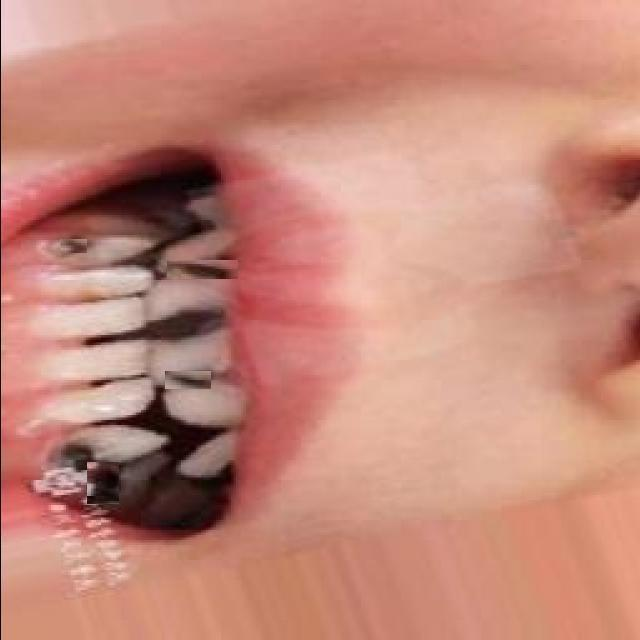decay: (146, 306, 224, 339), (58, 445, 100, 478), (86, 462, 118, 505), (166, 260, 237, 279), (164, 371, 210, 389), (59, 240, 86, 254)
